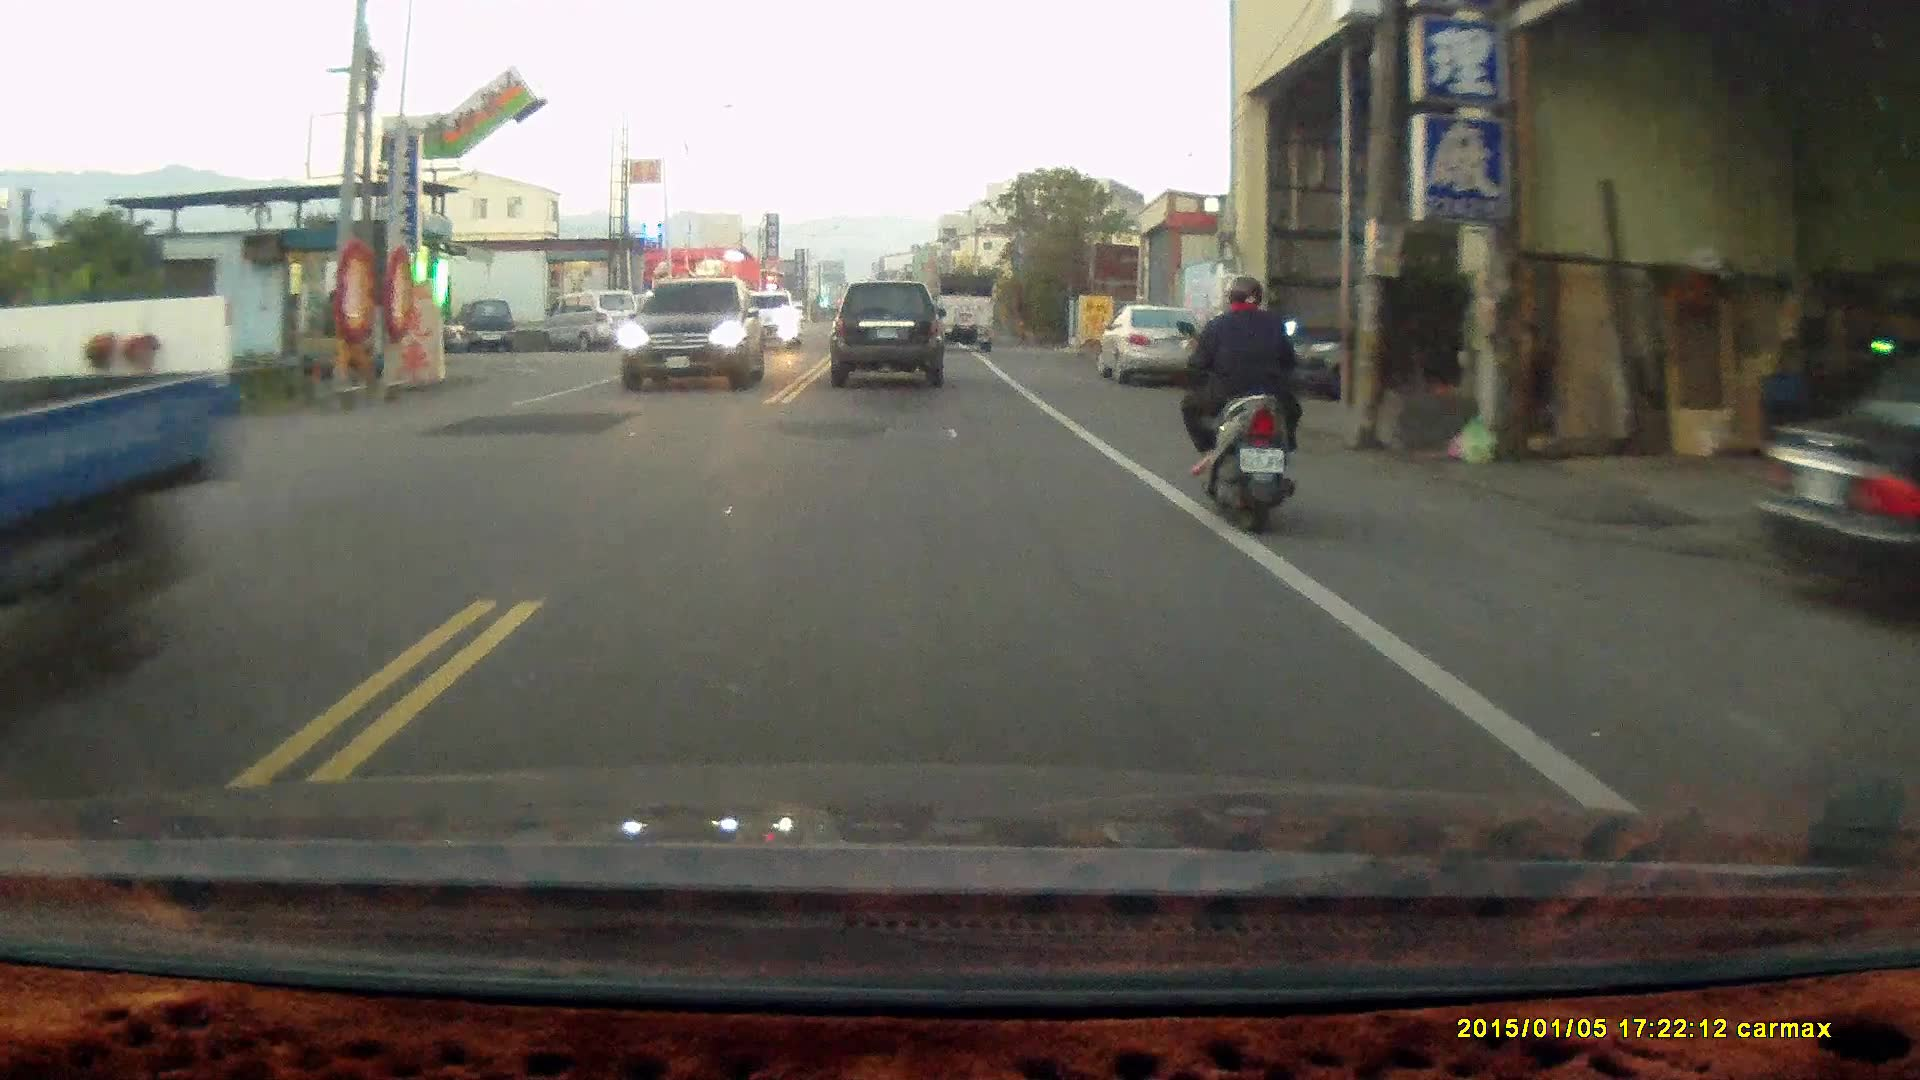rider: (1174, 270, 1305, 535)
vehicle: (1, 225, 226, 674), (1748, 358, 1919, 635), (618, 280, 771, 398), (829, 279, 947, 387), (1096, 302, 1202, 382), (548, 289, 640, 352), (928, 267, 998, 348)
